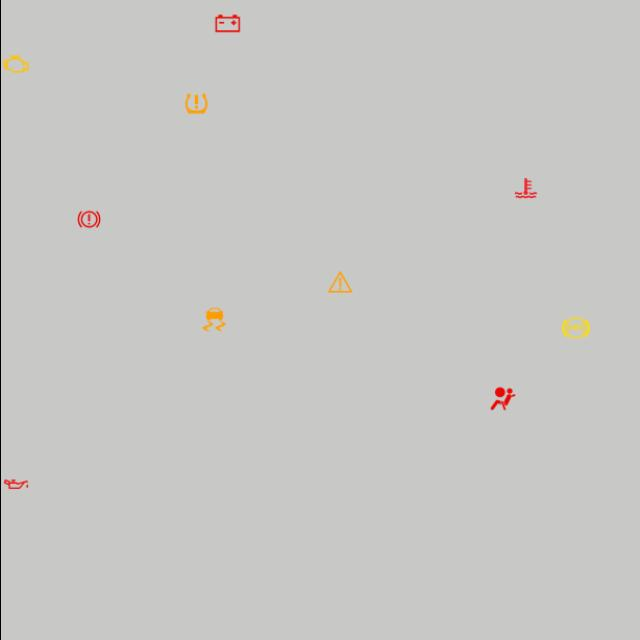Anti Lock Braking System: (560, 313, 590, 343)
Braking System Issue: (73, 204, 103, 234)
Charging System Issue: (212, 8, 242, 38)
Check Engine: (0, 49, 30, 79)
Electronic Stability Problem -ESP-: (198, 304, 228, 334)
Engine Overheating Warning Light: (510, 173, 540, 203)
Low Engine Oil Warning Light: (0, 469, 30, 499)
Low Tire Pressure Warning Light: (180, 88, 210, 118)
Master warning light: (324, 267, 354, 297)
SRS-Airbag: (487, 384, 517, 414)
